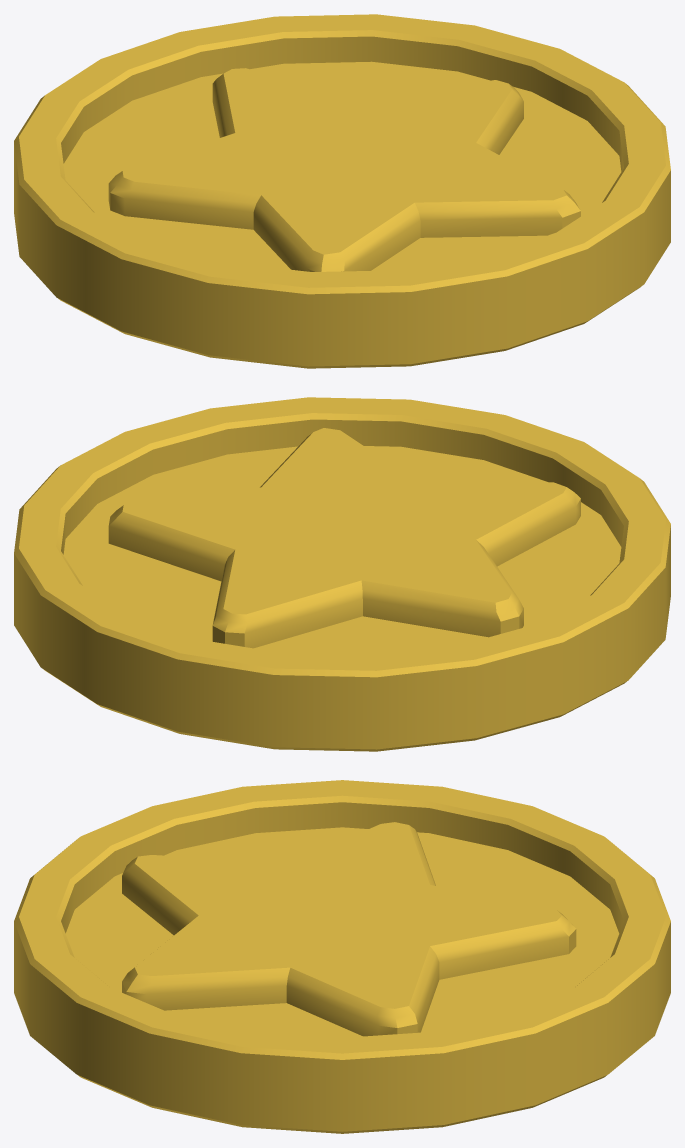
The model's file is GoldCoin.fbx.
3 renders of one model, top to bottom at view 1: azimuth 30°, elevation 25°; view 2: azimuth 150°, elevation 25°; view 3: azimuth 270°, elevation 25°, orthographic.
Visible parts, largest first — view 1: Circle; view 2: Circle; view 3: Circle.
Part boxes in pixels (x1=…): Circle: x1=14, y1=14, x2=670, y2=368; Circle: x1=14, y1=397, x2=670, y2=751; Circle: x1=14, y1=780, x2=670, y2=1133.
Bounding box in the file's own units: 200 × 27.86 × 200.
